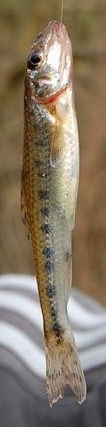Gobio gobio: (20, 20, 86, 407)
